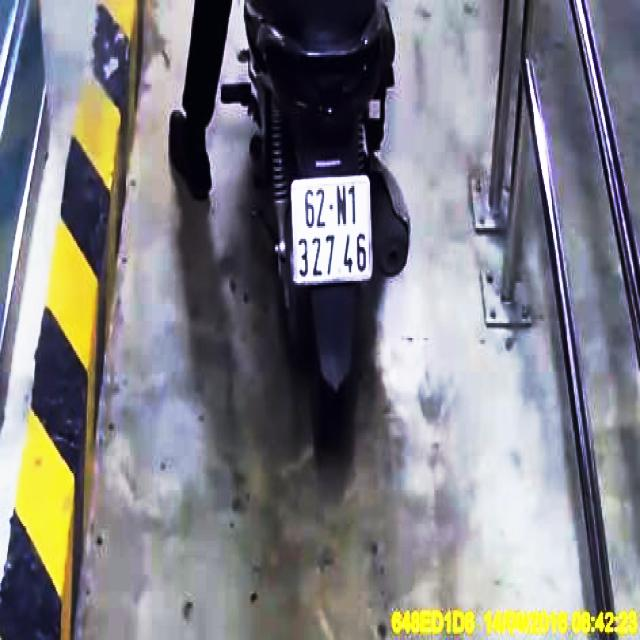license_plate: (293, 181, 371, 282)
